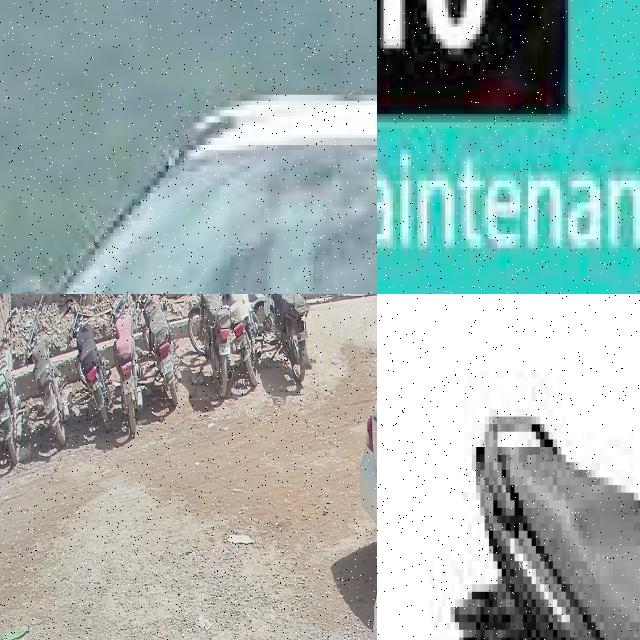bike: (412, 332, 640, 640), (25, 295, 69, 446), (70, 294, 112, 431), (253, 294, 311, 384), (136, 294, 181, 406), (188, 294, 233, 397), (110, 294, 142, 434), (220, 294, 261, 386), (0, 309, 21, 463)
car: (0, 58, 377, 294)
